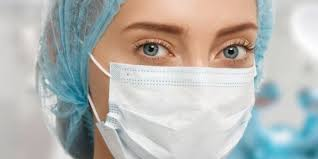mask: (91, 28, 214, 112)
